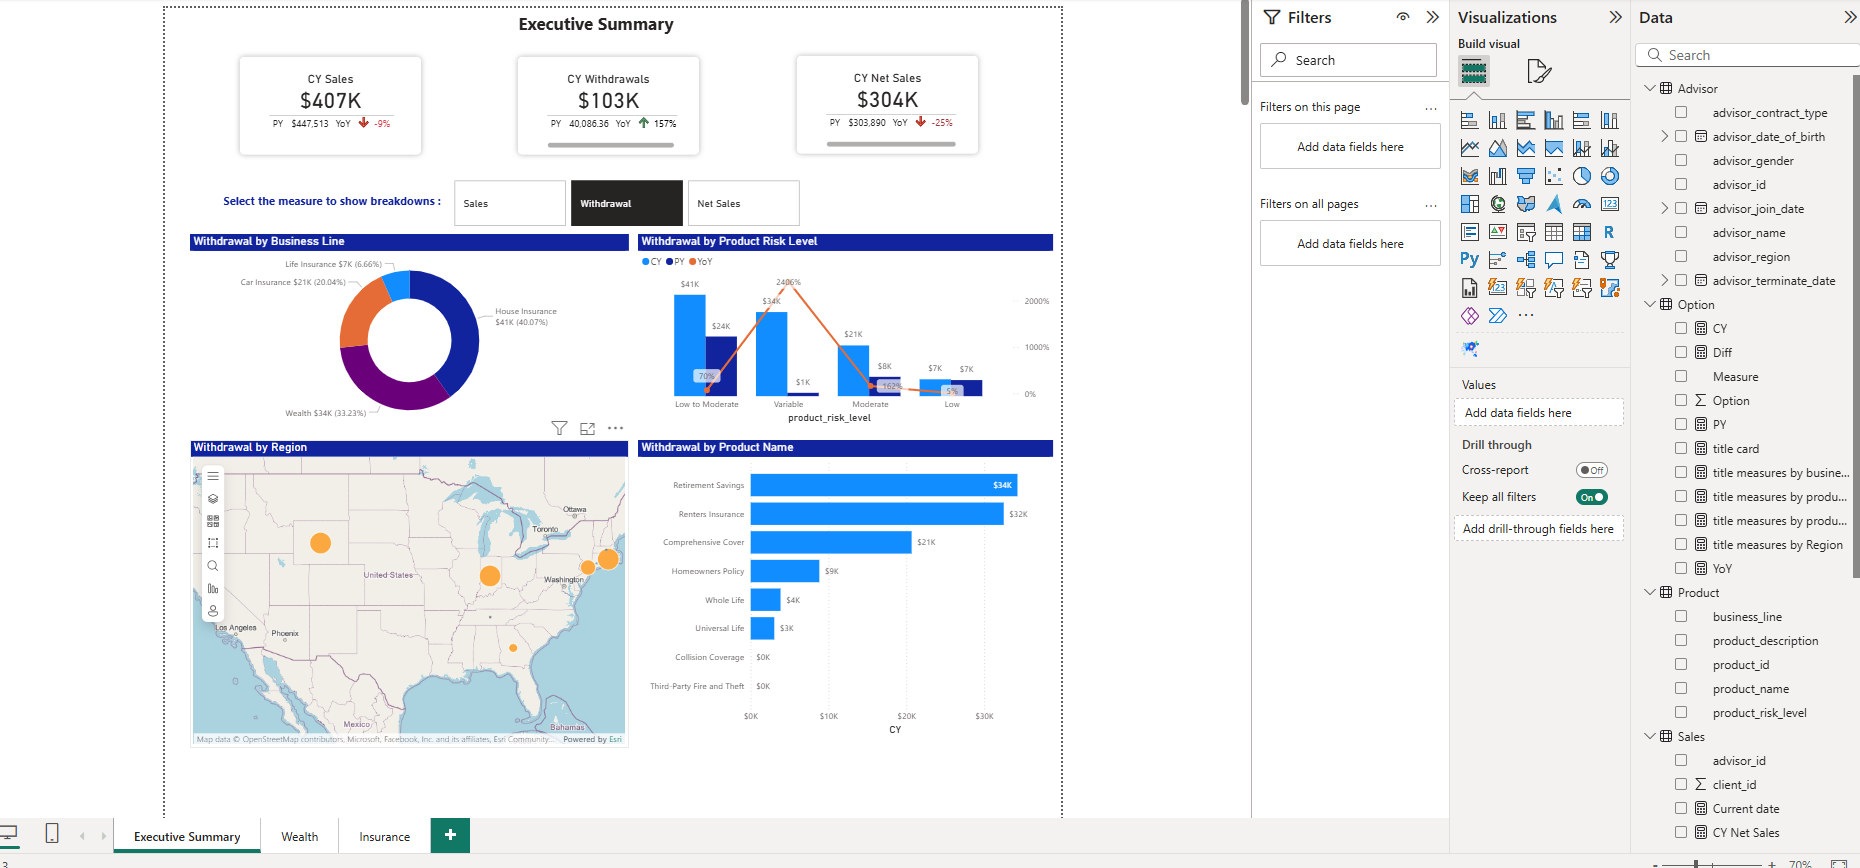

This screenshot's page, from the dashboard's own definition file:
{"tool":"powerbi","page":{"name":"Executive Summary","canvas":[1280,1100],"ordinal":0},"visuals":[{"type":"textbox","box":[0,0,1238.2,50.6],"z":0},{"type":"shape","box":[894.2,59.6,275.5,156.4],"z":0,"group":"g3"},{"type":"shape","box":[97.9,60.8,275.5,156.4],"z":0,"group":"g1"},{"type":"shape","box":[496.1,62.1,275.5,156.4],"z":0,"group":"g2"},{"type":"group","id":"g1","title":"Group 1","box":[97.9,60.8,275,157.5],"z":2000},{"type":"group","id":"g2","title":"Group 1","box":[496.1,62.1,275,157.5],"z":3000},{"type":"tableEx","fields":{"Values":["Sales.PY Text","Sales.CY Net Sales","Sales.YoY text","Sales.YoY Net Sales"]},"box":[938.9,119.1,196.8,84],"z":3000,"group":"g3"},{"type":"tableEx","fields":{"Values":["Sales.PY Text","Sales.PY Sales","Sales.YoY text","Sales.YoY Sales"]},"box":[142.8,120.3,201.1,86.2],"z":3000,"group":"g1"},{"type":"tableEx","fields":{"Values":["Sales.PY Text","Sales.PY Withdrawal","Sales.YoY text","Sales.YoY Withdrawal"]},"box":[540.8,121.6,196.8,84],"z":3000,"group":"g2"},{"type":"group","id":"g3","title":"Group 1","box":[894.2,59.6,275,157.5],"z":4000},{"type":"card","title":"CY Net Sales","fields":{"Values":["Sales.CY Net Sales"]},"box":[913.9,89.4,236.2,58.5],"z":4000,"group":"g3"},{"type":"card","title":"CY Sales","fields":{"Values":["Sales.CY Sales"]},"box":[117.6,90.6,236.2,58.5],"z":4000,"group":"g1"},{"type":"card","title":"CY Withdrawals","fields":{"Values":["Sales.CY Withdrawal"]},"box":[515.8,91.9,236.2,58.5],"z":4000,"group":"g2"},{"type":"donutChart","fields":{"Category":["Product.business_line"],"Y":["Option.CY"]},"box":[35.9,322.8,627.2,284.8],"z":5000},{"type":"lineClusteredColumnComboChart","fields":{"Category":["Product.product_risk_level"],"Y":["Option.CY","Option.PY"],"Y2":["Option.YoY"]},"box":[676.1,322.8,593.5,275],"z":6000},{"type":"esriVisual","fields":{"Location":["Advisor.advisor_region"],"Size":["Option.CY"]},"box":[35.9,617.4,627.2,440.2],"z":7000},{"type":"clusteredBarChart","fields":{"Category":["Product.product_name"],"Y":["Option.CY"]},"box":[676.1,617.4,593.5,426.1],"z":8000},{"type":"advancedSlicerVisual","fields":{"Values":["Option.Measure"]},"box":[408.8,241.2,505,75],"z":9000},{"type":"textbox","box":[78.8,260,328.8,56.2],"z":10000}]}

Visuals, with their boxes on the page's 1280x1100 design canvas (x1, y1, x2, y2). These are canvas units, not pixel positions in the 1860x868 screenshot, which may show the page scaled, cropped or inside an application window:
textbox: l=0, t=0, r=1238, b=51
shape: l=894, t=60, r=1170, b=216
shape: l=98, t=61, r=373, b=217
shape: l=496, t=62, r=772, b=218
"Group 1" group: l=98, t=61, r=373, b=218
"Group 1" group: l=496, t=62, r=771, b=220
tableEx - Sales.PY Text x Sales.CY Net Sales: l=939, t=119, r=1136, b=203
tableEx - Sales.PY Text x Sales.PY Sales: l=143, t=120, r=344, b=206
tableEx - Sales.PY Text x Sales.PY Withdrawal: l=541, t=122, r=738, b=206
"Group 1" group: l=894, t=60, r=1169, b=217
"CY Net Sales" card: l=914, t=89, r=1150, b=148
"CY Sales" card: l=118, t=91, r=354, b=149
"CY Withdrawals" card: l=516, t=92, r=752, b=150
donutChart - Product.business_line x Option.CY: l=36, t=323, r=663, b=608
lineClusteredColumnComboChart - Product.product_risk_level x Option.CY: l=676, t=323, r=1270, b=598
esriVisual - Advisor.advisor_region x Option.CY: l=36, t=617, r=663, b=1058
clusteredBarChart - Product.product_name x Option.CY: l=676, t=617, r=1270, b=1044
advancedSlicerVisual - Option.Measure: l=409, t=241, r=914, b=316
textbox: l=79, t=260, r=408, b=316
